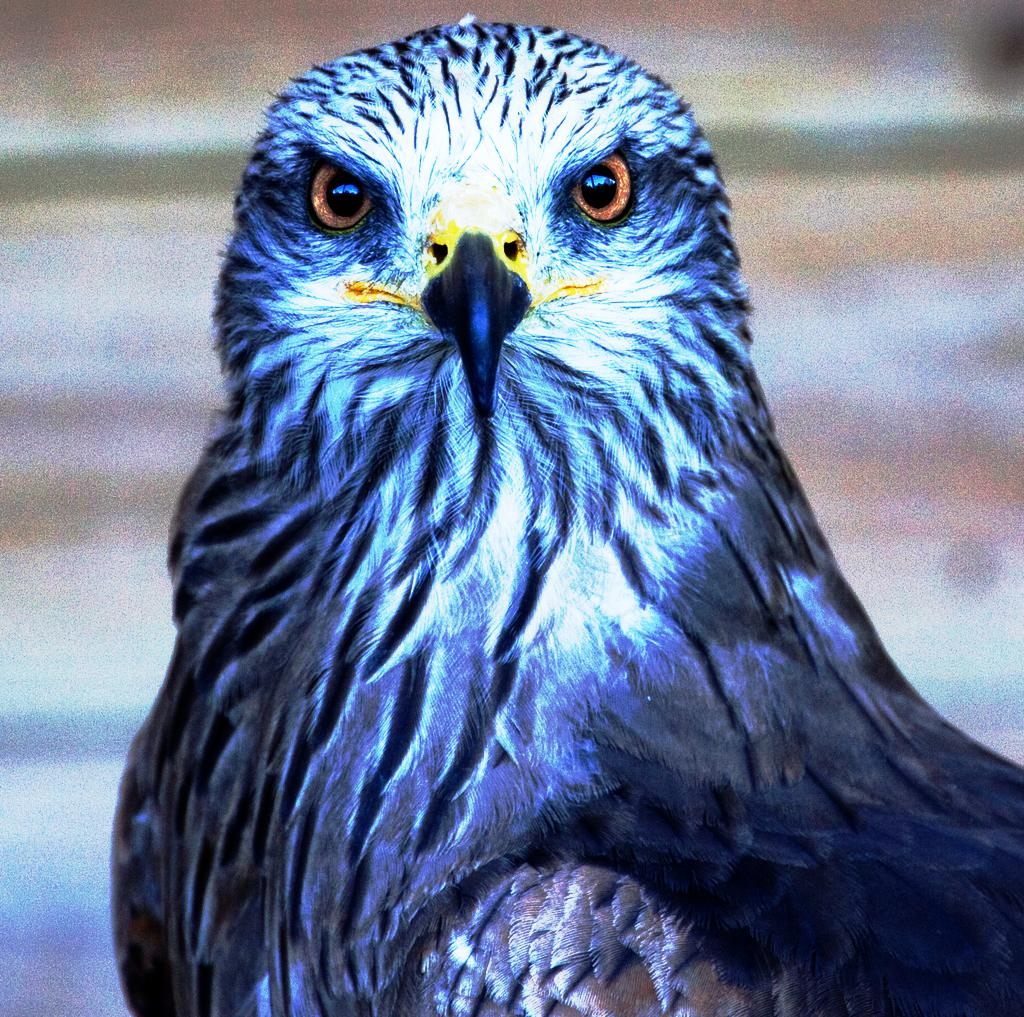Owl: (112, 23, 1024, 1016)
